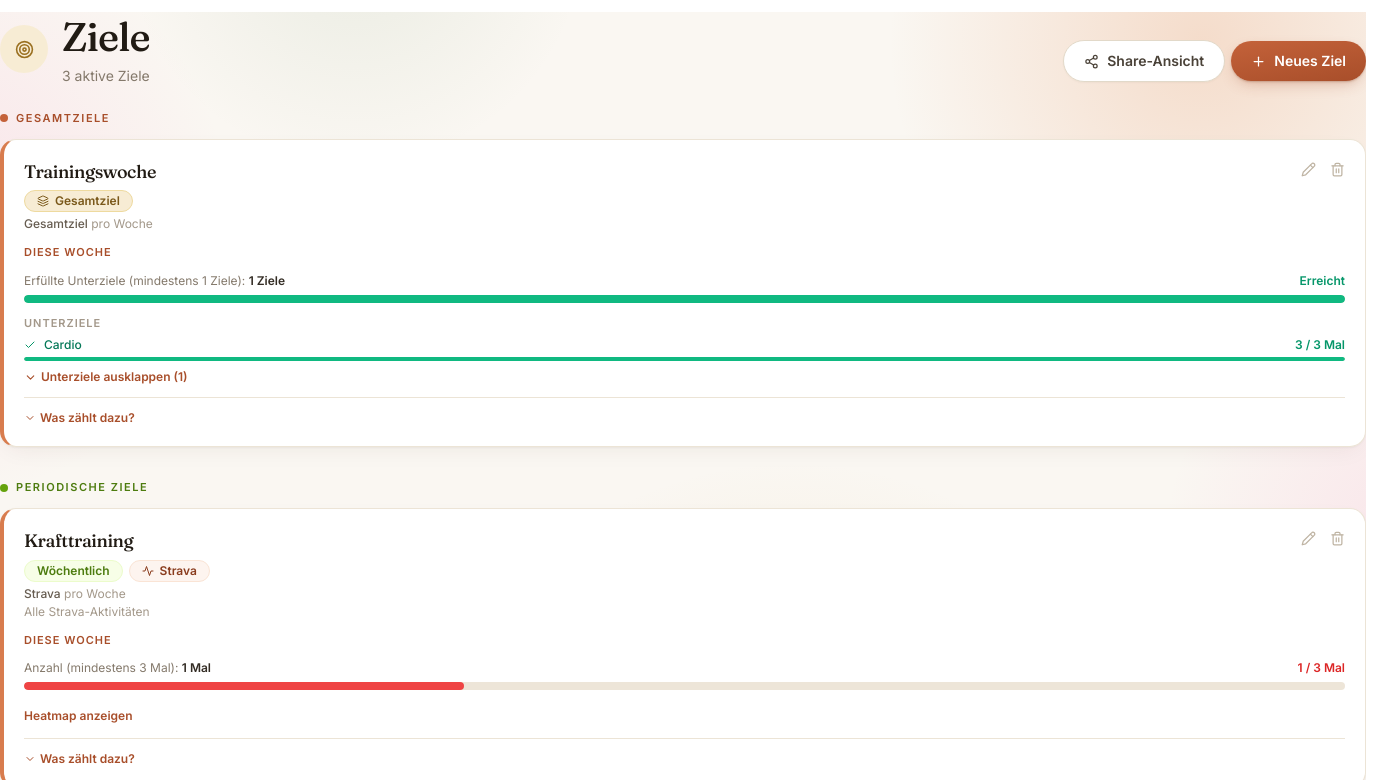
Test case: Goals – hierarchy display › nests children in the meta card: compact preview, expandable full card
This screenshot has width=1378, height=780.
Expected: the heading "Gesamtziele" is shown, [0,111,110,125]
Expected: the heading "Trainingswoche" is shown, [24,160,156,182]
Click the button "Unterziele ausklappen (1)": (106, 376) [24,367,188,385]
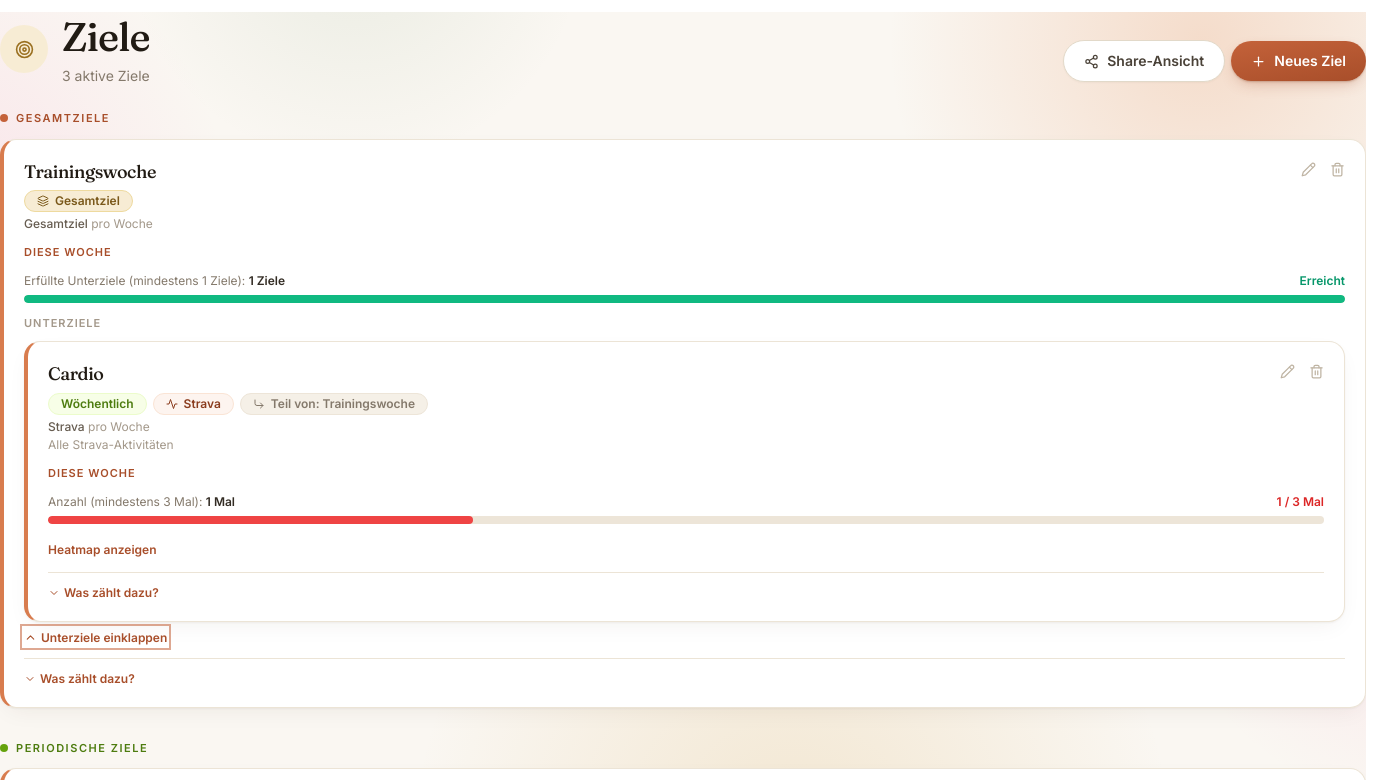
Now the text "Teil von: Trainingswoche" is shown, box [240,393,428,415]
Now the button "Unterziele einklappen" is shown, box [24,628,167,646]
